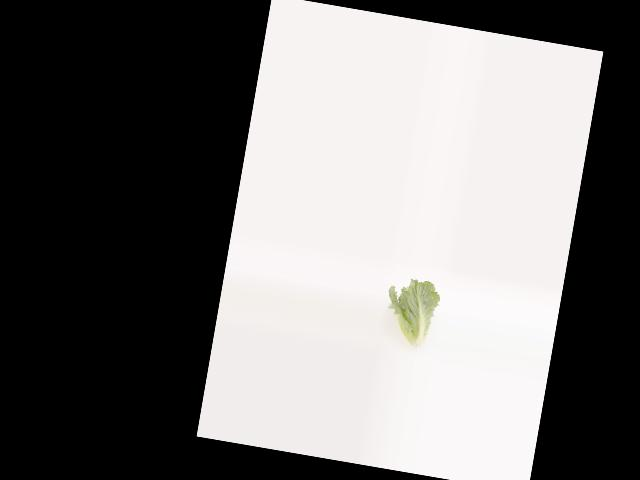lettuce: (381, 273, 444, 357)
